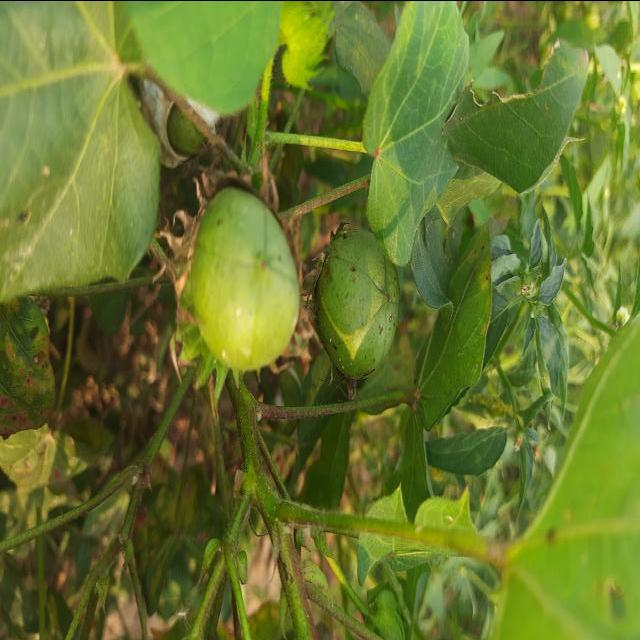Early Boll: (183, 184, 307, 364), (319, 221, 409, 371)
